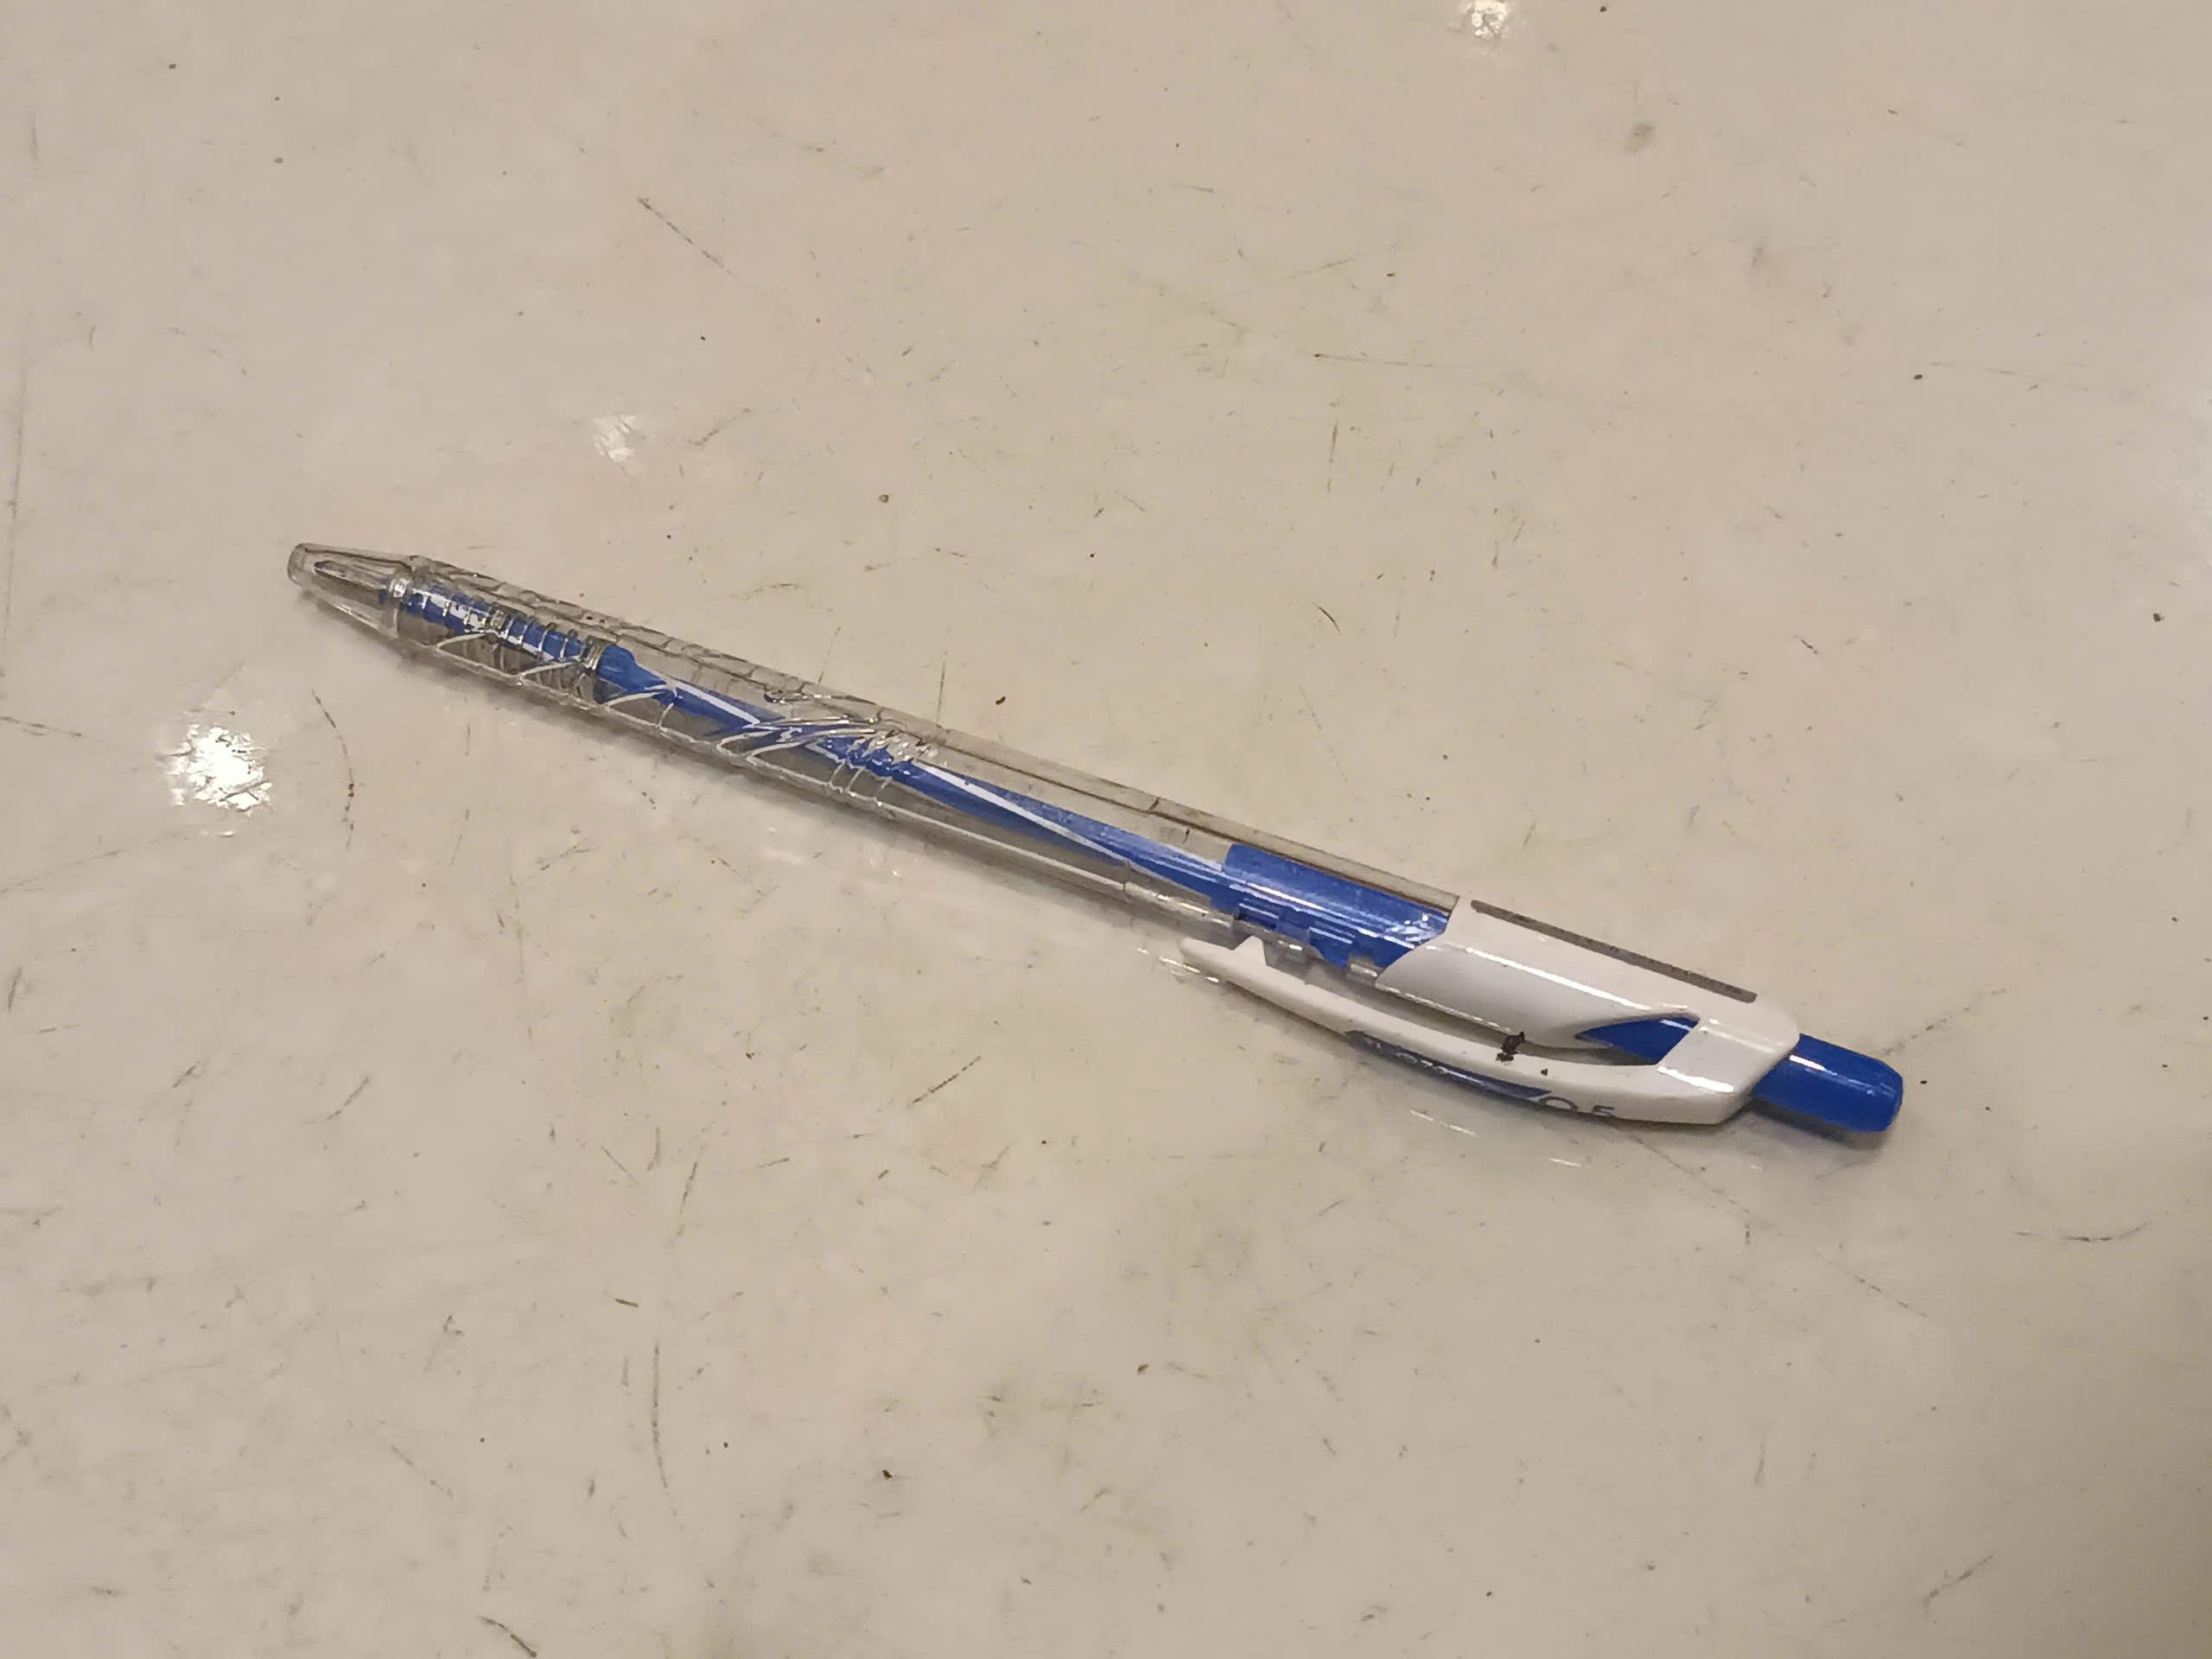Con lai: (282, 537, 1904, 1147)
